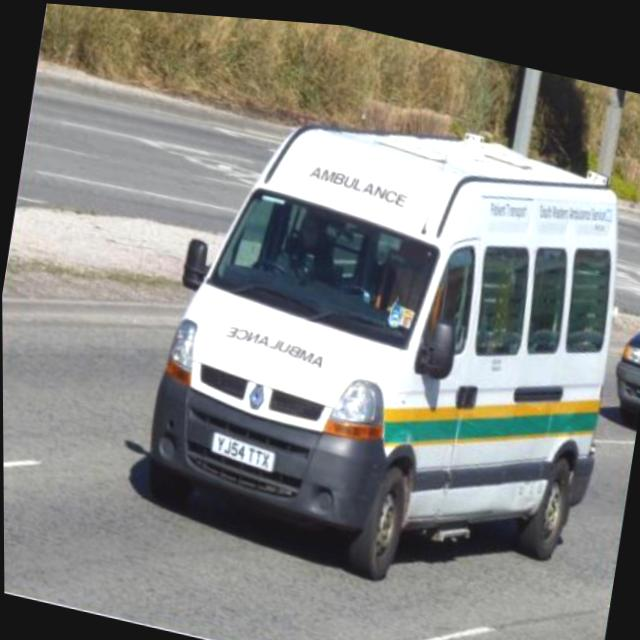emergency: (115, 53, 640, 625)
